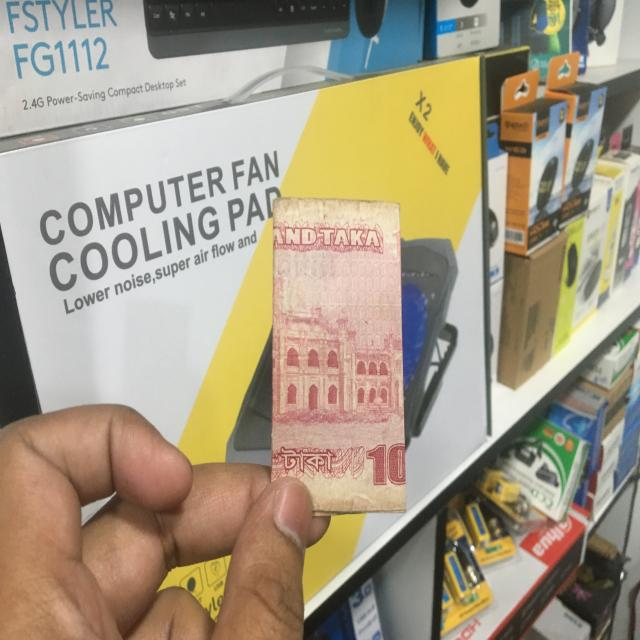Taka: (272, 195, 408, 520)
